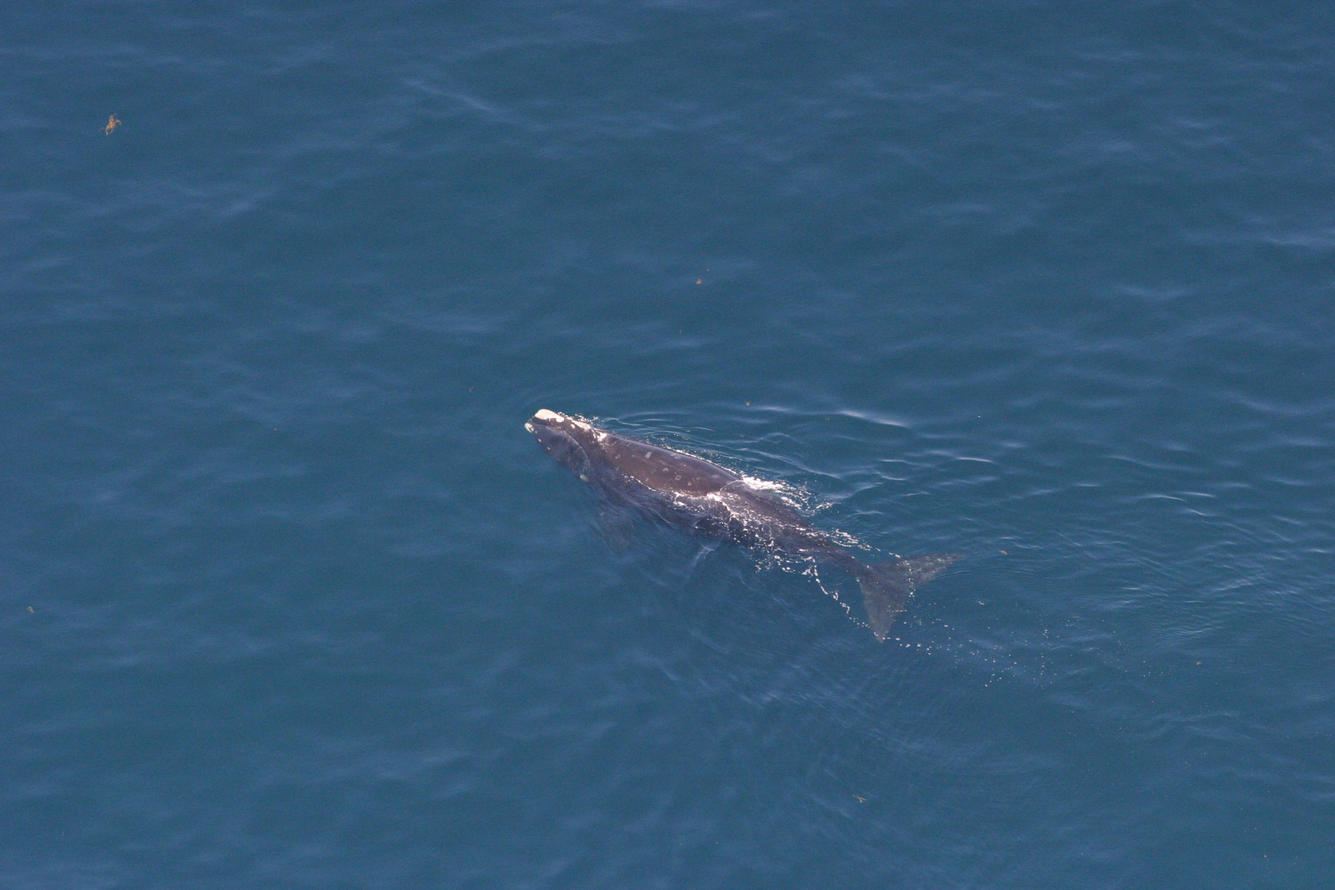whale: (521, 402, 963, 652)
